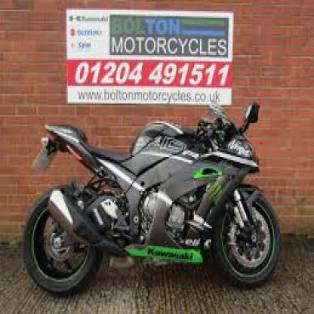Motocicleta: (22, 100, 285, 300)
